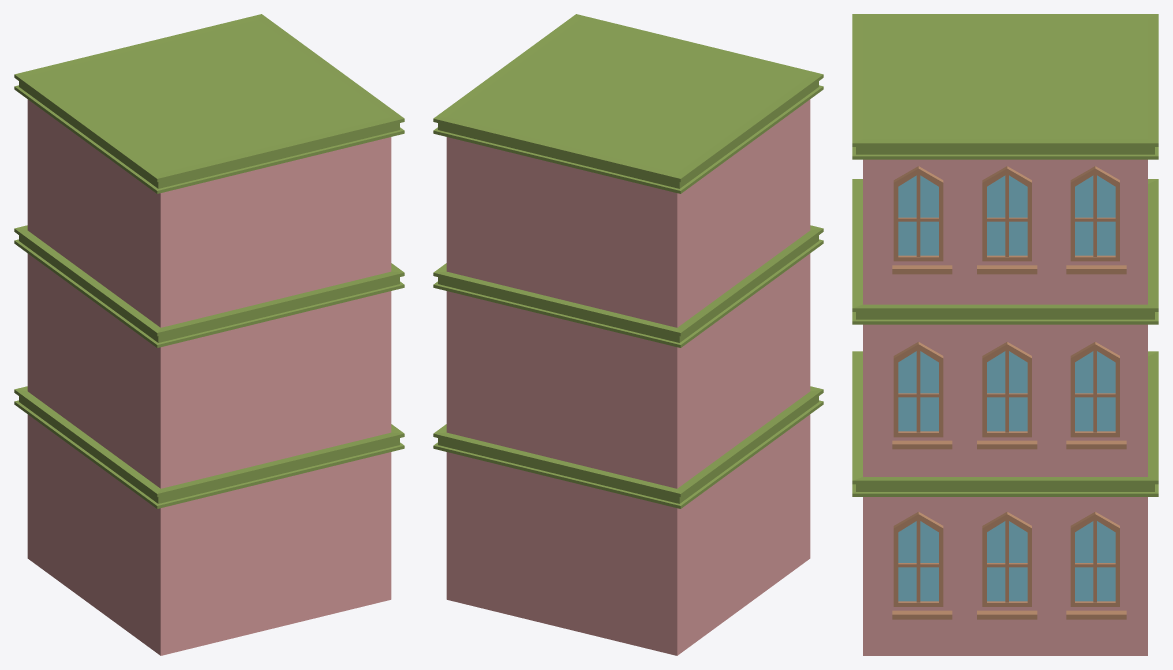
The model's file is Round windows building.fbx.
The picture shows the model from 3 angles, left to right: view 1: azimuth 30°, elevation 25°; view 2: azimuth 150°, elevation 25°; view 3: azimuth 270°, elevation 25°; orthographic projection. The views are drawn at different scales.
Parts seen in each view (by area): view 1: Base Building, building decorations; view 2: Base Building, building decorations; view 3: Base Building, building decorations, windows, Window Structure, windowsills.
Part boxes in pixels (bbox=[...]): Base Building: bbox=[27, 99, 391, 655]; building decorations: bbox=[14, 14, 404, 508]; Base Building: bbox=[446, 99, 810, 655]; building decorations: bbox=[433, 14, 823, 508]; Base Building: bbox=[863, 159, 1147, 655]; building decorations: bbox=[852, 14, 1158, 496]; windows: bbox=[898, 175, 1115, 601]; Window Structure: bbox=[893, 166, 1119, 606]; windowsills: bbox=[892, 265, 1126, 619].
Size of the model in its own units: 1406 by 2620 by 1406.
